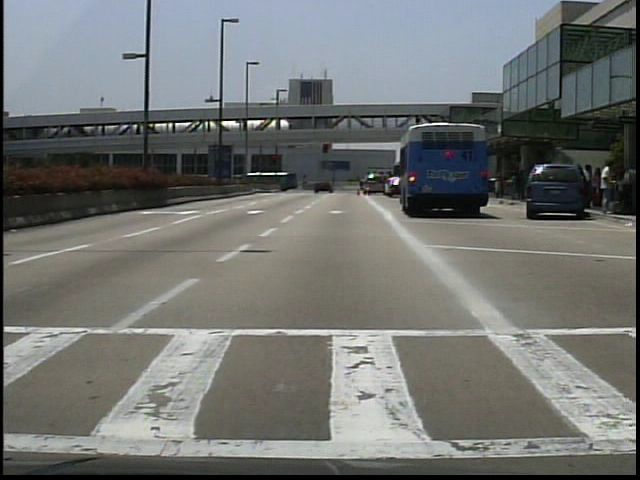person: (599, 159, 619, 214), (592, 165, 608, 211), (582, 163, 597, 208), (516, 167, 528, 203), (320, 181, 321, 197)
